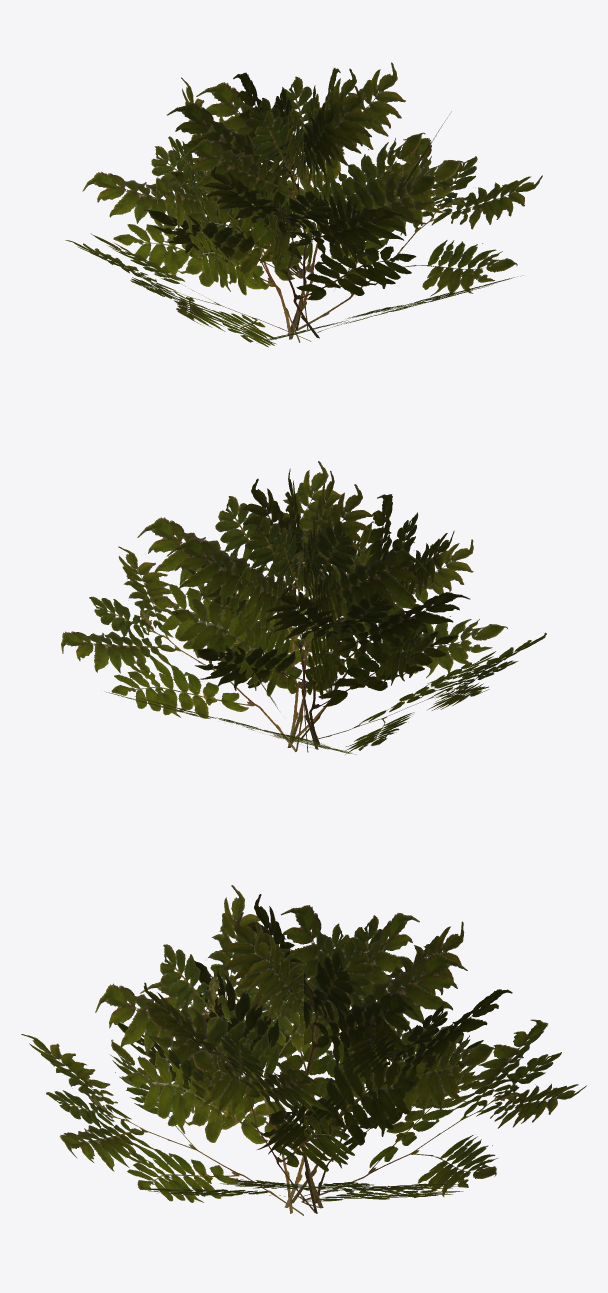
The model's file is plant_mesh_02.glb.
The picture shows the model from 3 angles, top to bottom: view 1: azimuth 30°, elevation 25°; view 2: azimuth 150°, elevation 25°; view 3: azimuth 270°, elevation 25°; orthographic projection. The views are drawn at different scales.
Visible parts, largest first — view 1: plant_mesh_02; view 2: plant_mesh_02; view 3: plant_mesh_02.
Part boxes in pixels (left/top/right/bottom): plant_mesh_02: left=65, top=62, right=542, bottom=347; plant_mesh_02: left=61, top=461, right=546, bottom=754; plant_mesh_02: left=21, top=885, right=586, bottom=1215.
Bounding box in the file's own units: 0.5198 × 0.3002 × 0.5198.
1 material, 1 textured.
